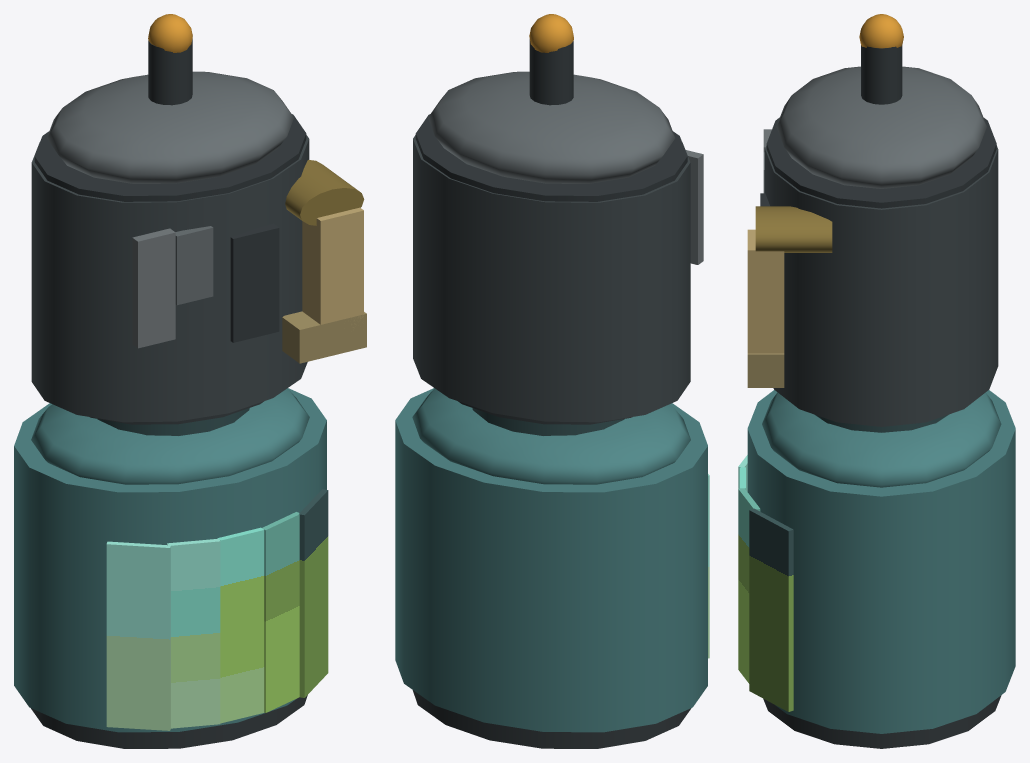
The model's file is CMU3DCleanerGrenadeCloud.glb.
3 views of the same model, side by side, from view 1: azimuth 30°, elevation 25°; view 2: azimuth 150°, elevation 25°; view 3: azimuth 270°, elevation 25° (orthographic).
Parts seen in each view (by area): view 1: upper metal canister, rounded reservoir, metal shoulder cap, reservoir upper shoulder, original cleaner label curved strip 1, original cleaner label curved strip 2, original cleaner label curved strip 3, original cleaner label curved strip 4, brass safety lever, metal upper rim, original cleaner label curved strip 5, front recessed cap slot (+8 smaller); view 2: rounded reservoir, upper metal canister, metal shoulder cap, reservoir upper shoulder, metal upper rim, reservoir bottom rim, top valve stem, cap broad source highlight, narrow neck, top amber timer bead; view 3: rounded reservoir, upper metal canister, metal shoulder cap, reservoir upper shoulder, original cleaner label curved strip 5, metal upper rim, brass safety lever, reservoir bottom rim, lever hinge, original cleaner label curved strip 4, top valve stem, lever lower bent toe (+2 smaller).
Boxes of the visible parts, box(x1,y1,x2,y2) form: upper metal canister: box(31, 135, 309, 422); rounded reservoir: box(14, 388, 326, 732); metal shoulder cap: box(47, 71, 293, 183); reservoir upper shoulder: box(31, 388, 309, 484); original cleaner label curved strip 1: box(106, 541, 170, 730); original cleaner label curved strip 2: box(167, 538, 220, 728); original cleaner label curved strip 3: box(217, 527, 264, 723); original cleaner label curved strip 4: box(262, 512, 299, 712); brass safety lever: box(302, 207, 363, 327); metal upper rim: box(34, 114, 306, 201); original cleaner label curved strip 5: box(299, 489, 328, 697); front recessed cap slot: box(230, 223, 279, 342); rounded reservoir: box(395, 388, 707, 732); upper metal canister: box(413, 135, 690, 422); metal shoulder cap: box(428, 71, 675, 183); reservoir upper shoulder: box(412, 388, 690, 484); metal upper rim: box(415, 114, 687, 201); reservoir bottom rim: box(412, 690, 691, 748); top valve stem: box(529, 39, 573, 105); cap broad source highlight: box(685, 150, 703, 264); narrow neck: box(472, 408, 624, 435); top amber timer bead: box(529, 14, 573, 52); rounded reservoir: box(747, 390, 1015, 733); upper metal canister: box(765, 145, 998, 426); metal shoulder cap: box(776, 66, 986, 188); reservoir upper shoulder: box(762, 392, 1001, 487); original cleaner label curved strip 5: box(749, 508, 793, 711); metal upper rim: box(766, 117, 996, 208); brass safety lever: box(747, 229, 784, 353); reservoir bottom rim: box(763, 695, 1001, 748); lever hinge: box(755, 206, 832, 252); original cleaner label curved strip 4: box(738, 488, 760, 683); top valve stem: box(861, 45, 902, 104); lever lower bent toe: box(747, 353, 784, 387).
Size of what is drawn, in the model's own units: 0.202 by 0.464 by 0.1739.
15 materials, 5 textured.
